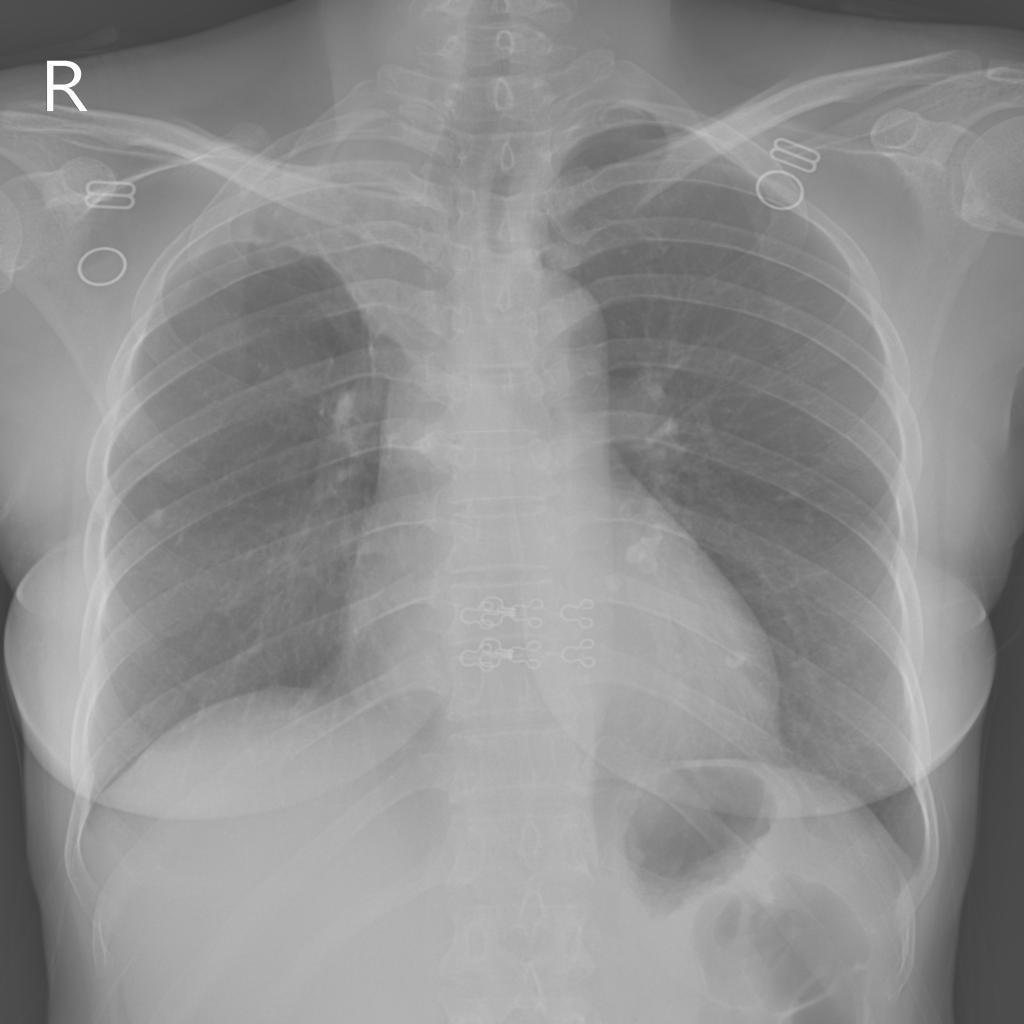Nodule: (145, 505, 164, 538)
